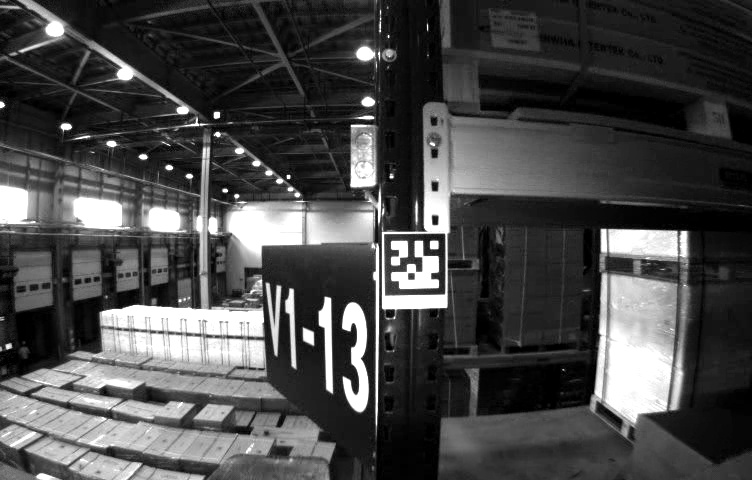True Barcode: (491, 10, 540, 49)
